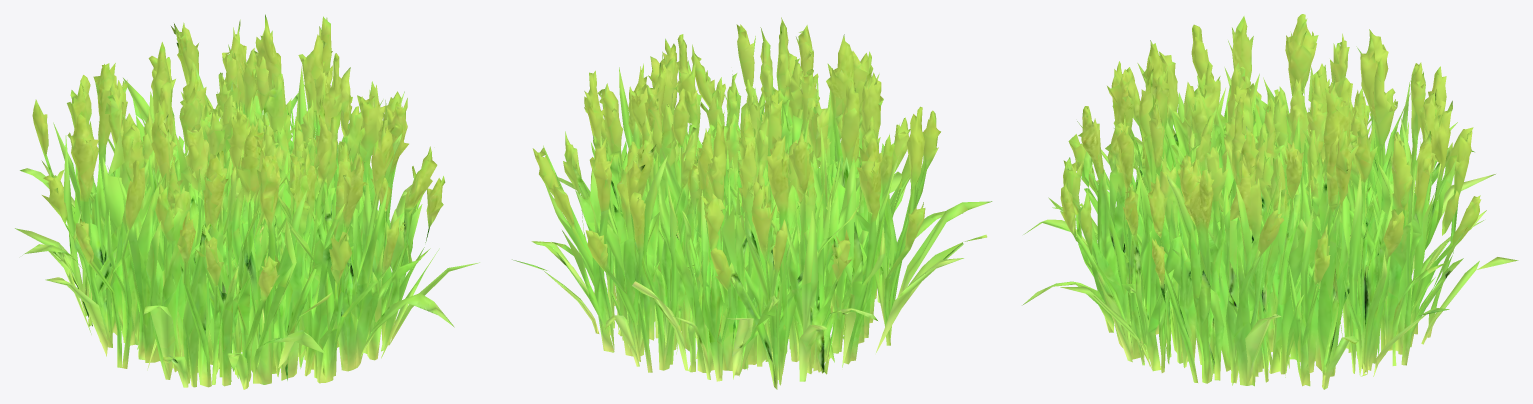
File: wheat-stage-2.glb
3 renders of one model, left to right at view 1: azimuth 30°, elevation 25°; view 2: azimuth 150°, elevation 25°; view 3: azimuth 270°, elevation 25°, orthographic. The views are drawn at different scales.
Visible parts, largest first — view 1: Mesh_0; view 2: Mesh_0; view 3: Mesh_0.
Part boxes in pixels (x1,y1,x2,y2): Mesh_0: (15, 14, 479, 389); Mesh_0: (512, 17, 992, 389); Mesh_0: (1022, 14, 1518, 389).
Size of the model in its own units: 0.1873 by 0.12 by 0.1926.
1 material, 1 textured.
